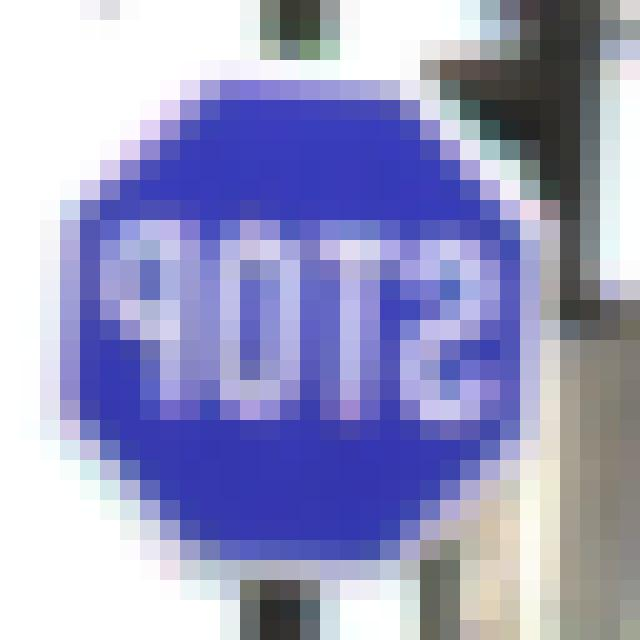STOP: (34, 71, 556, 580)
